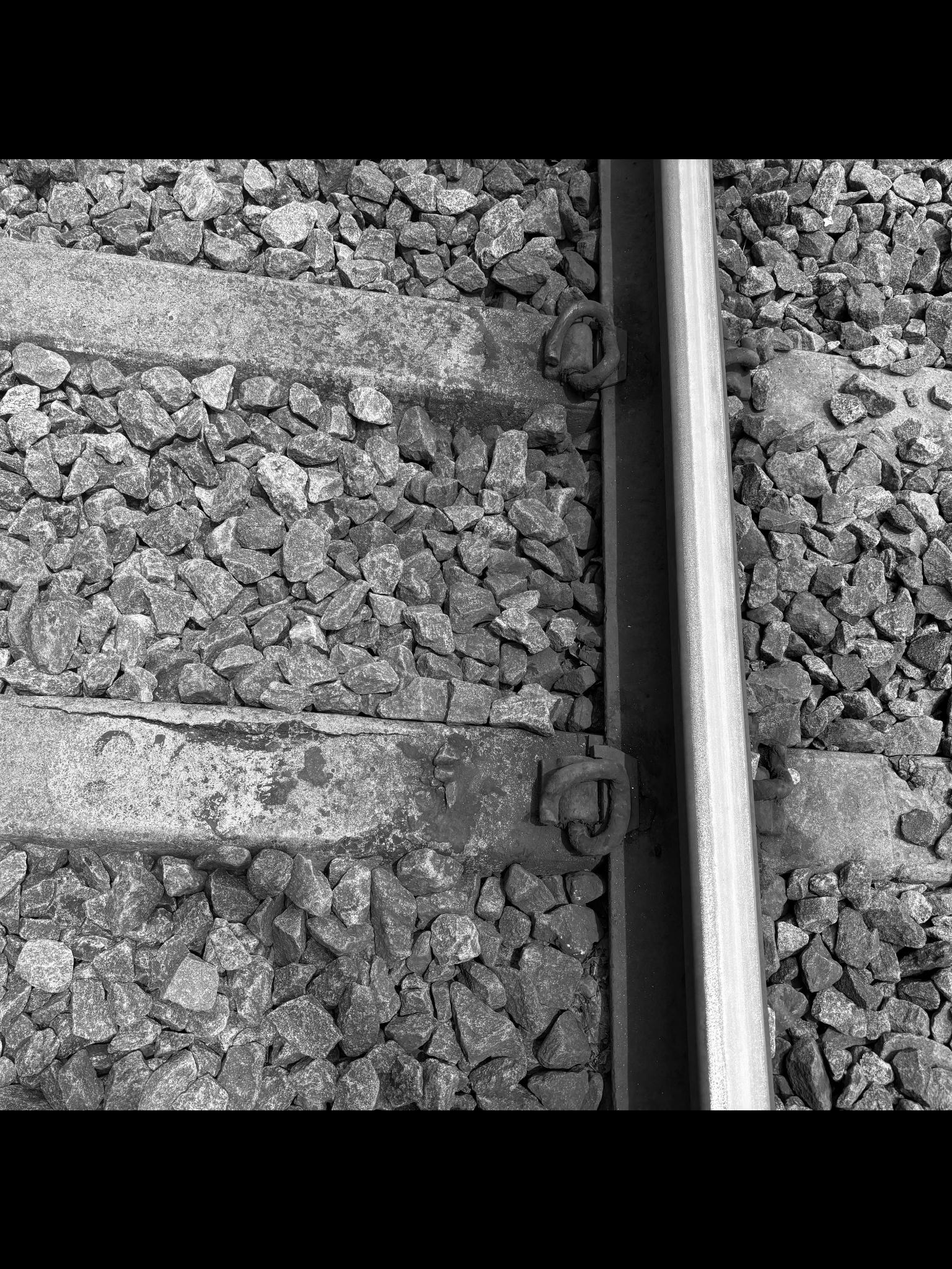cracks in midportion: (4, 694, 449, 753)
